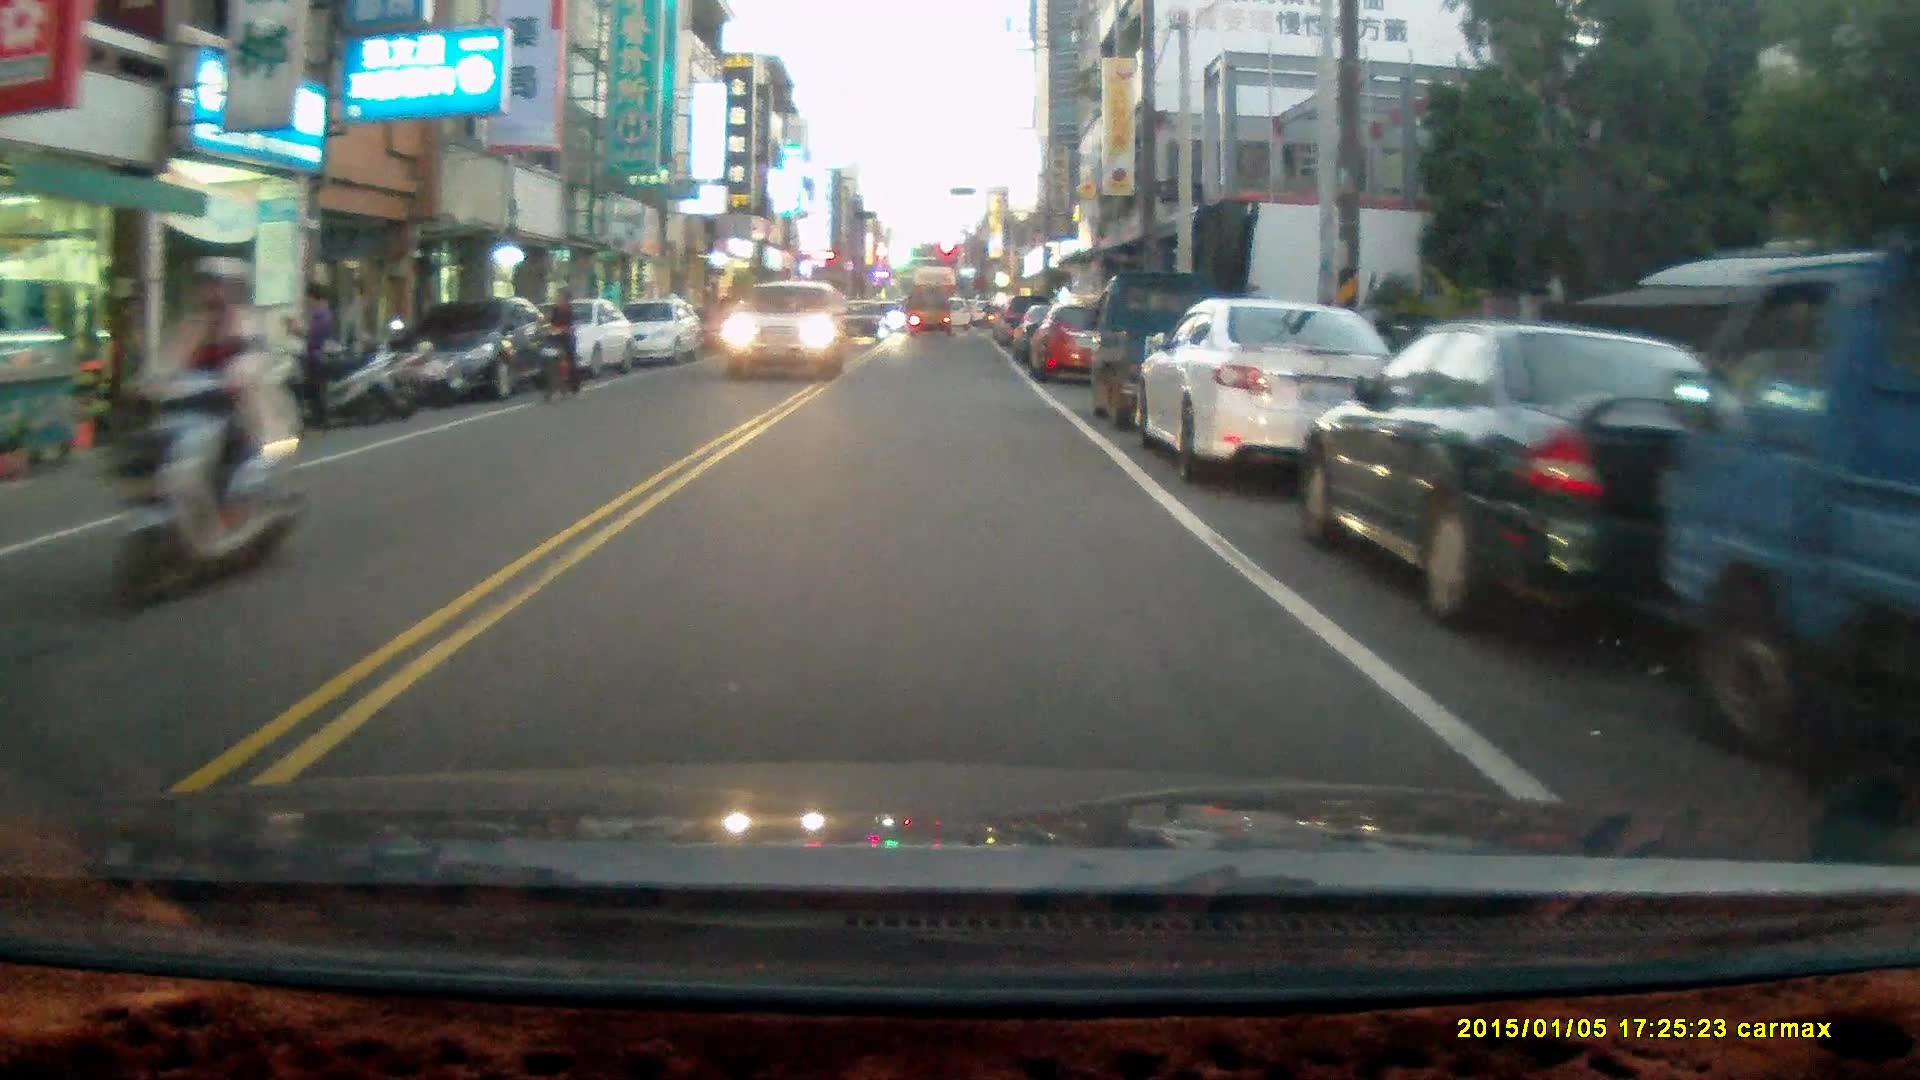pedestrian: (284, 275, 331, 437)
rider: (104, 253, 306, 615), (534, 288, 579, 404)
vehicle: (1296, 318, 1793, 635), (1658, 240, 1920, 795), (1132, 295, 1415, 484), (1089, 263, 1261, 439), (397, 294, 559, 401), (493, 301, 640, 387), (723, 279, 848, 376), (1026, 305, 1130, 384), (604, 297, 704, 365), (831, 297, 892, 348), (903, 283, 955, 339)
